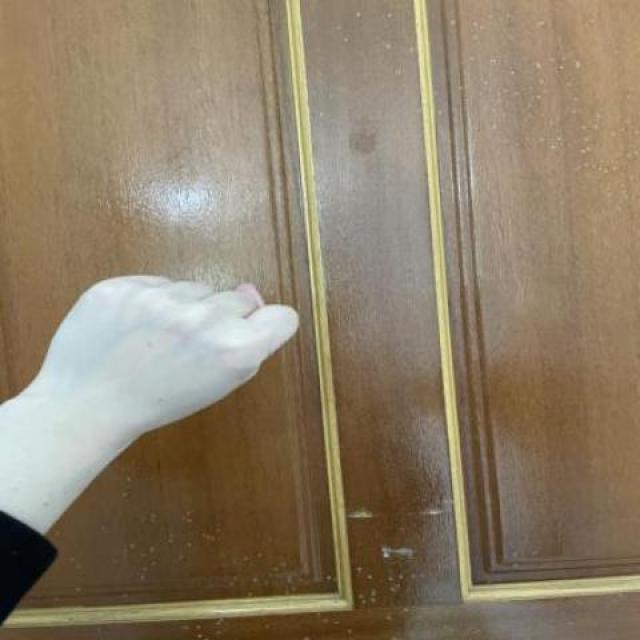fist: (39, 271, 302, 450)
